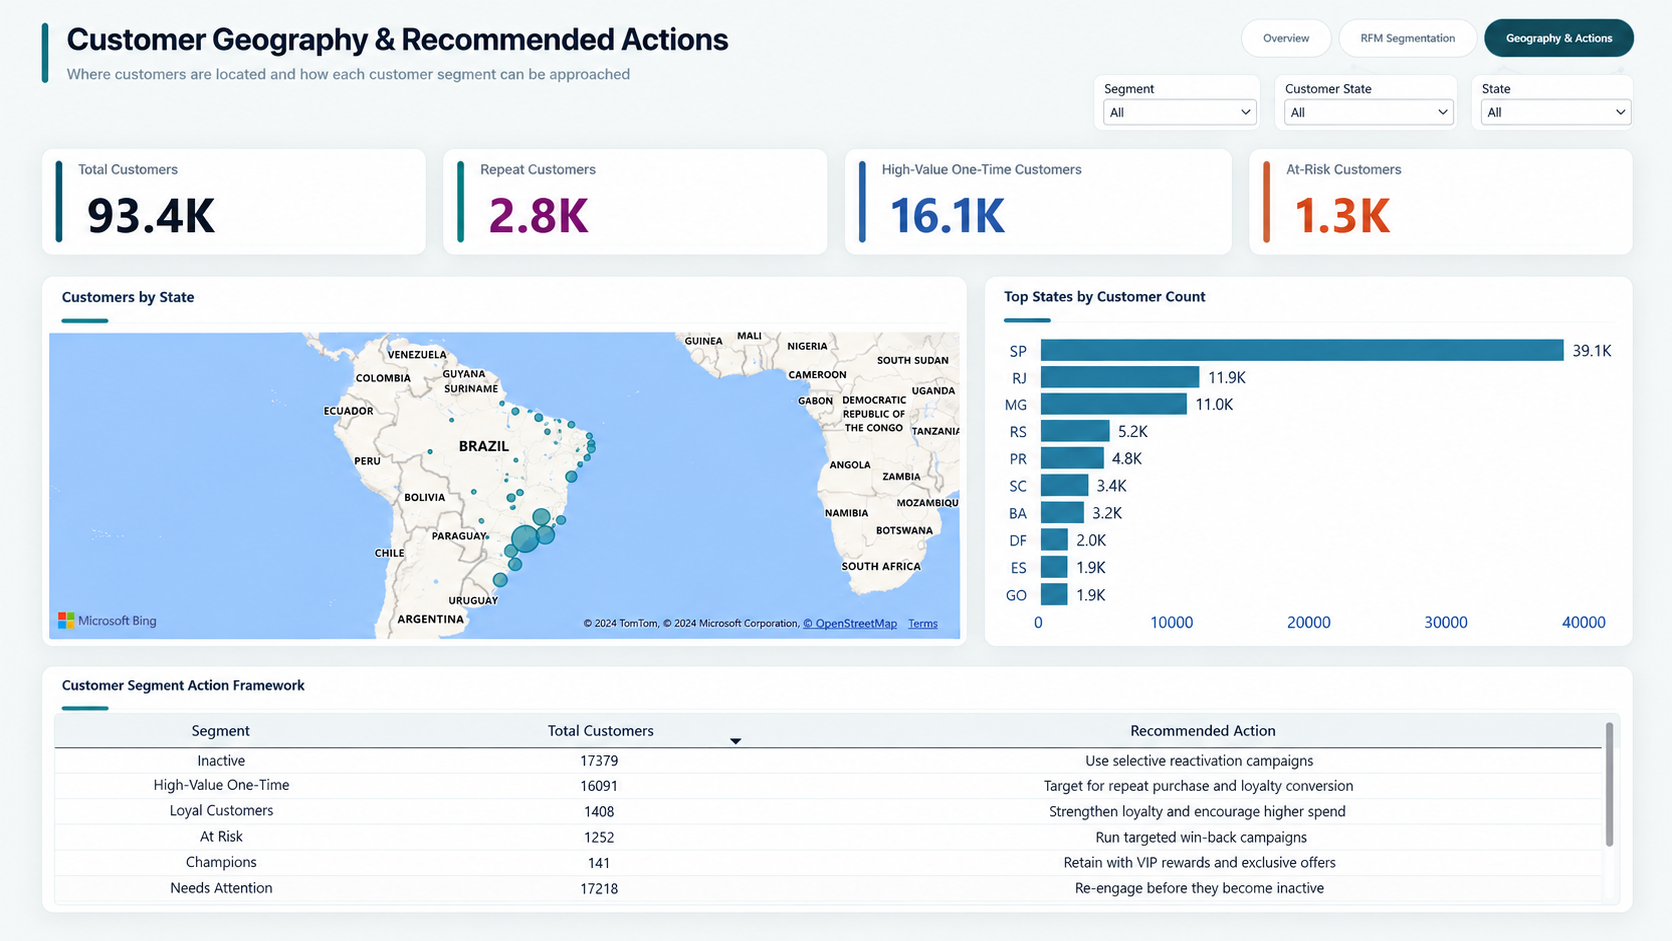

The dashboard page shown, as its layout file describes it:
{"tool":"powerbi","page":{"name":"Page 3","canvas":[1920,1080],"ordinal":2},"visuals":[{"type":"cardVisual","fields":{"Data":["olist_customer_segmentation_final.Total Customers"]},"box":[77.6,219,245.6,61.9],"z":0},{"type":"cardVisual","fields":{"Data":["olist_customer_segmentation_final.Repeat Customers"]},"box":[548.6,218.6,245.6,61.9],"z":1000},{"type":"shape","box":[1286.6,110.4,194,54],"z":2000},{"type":"slicer","fields":{"Values":["olist_customer_segmentation_final.Segment"]},"box":[1288.6,128.4,192,36],"z":3000},{"type":"textbox","box":[1294,110.2,65.8,22.5],"z":4000},{"type":"shape","box":[1489.2,110.2,206,54],"z":5000},{"type":"slicer","fields":{"Values":["olist_customer_segmentation_final.customer_state"]},"box":[1490.7,128.5,200,32.5],"z":6000},{"type":"textbox","box":[1496.5,110.2,109.2,21.7],"z":7000},{"type":"shape","box":[1701.3,110.5,194,54],"z":8000},{"type":"slicer","fields":{"Values":["olist_customer_segmentation_final.customer_state"]},"box":[1703.3,128.5,192,36],"z":9000},{"type":"textbox","box":[1708.7,110.3,65.8,22.5],"z":10000},{"type":"cardVisual","fields":{"Data":["olist_customer_segmentation_final.High-Value One-Time Customers"]},"box":[1010,220,245.6,61.9],"z":11000},{"type":"cardVisual","fields":{"Data":["olist_customer_segmentation_final.At-Risk Customers"]},"box":[1470,218.9,245.6,61.9],"z":12000},{"type":"map","fields":{"Category":["olist_customer_segmentation_final.State Location"],"Size":["olist_customer_segmentation_final.Total Customers"]},"box":[37,382,1089,337],"z":13000},{"type":"clusteredBarChart","fields":{"Category":["olist_customer_segmentation_final.customer_state"],"Y":["olist_customer_segmentation_final.Total Customers"]},"box":[1125.8,373.3,769.2,345],"z":14000},{"type":"tableEx","fields":{"Values":["olist_customer_segmentation_final.Segment","olist_customer_segmentation_final.Total Customers","olist_customer_segmentation_final.Recommended_Action"]},"box":[54,784,1810,232],"z":15000}]}

Visuals, with their boxes in screenshot pixels (x1, y1, x2, y2), scaled from the page's 1920x1080 canvas onto the 1672x941 screenshot:
cardVisual - olist_customer_segmentation_final.Total Customers: (68, 191, 281, 245)
cardVisual - olist_customer_segmentation_final.Repeat Customers: (478, 190, 692, 244)
shape: (1120, 96, 1289, 143)
slicer - olist_customer_segmentation_final.Segment: (1122, 112, 1289, 143)
textbox: (1127, 96, 1184, 116)
shape: (1297, 96, 1476, 143)
slicer - olist_customer_segmentation_final.customer_state: (1298, 112, 1472, 140)
textbox: (1303, 96, 1398, 115)
shape: (1482, 96, 1650, 143)
slicer - olist_customer_segmentation_final.customer_state: (1483, 112, 1650, 143)
textbox: (1488, 96, 1545, 116)
cardVisual - olist_customer_segmentation_final.High-Value One-Time Customers: (880, 192, 1093, 246)
cardVisual - olist_customer_segmentation_final.At-Risk Customers: (1280, 191, 1494, 245)
map - olist_customer_segmentation_final.State Location x olist_customer_segmentation_final.Total Customers: (32, 333, 981, 626)
clusteredBarChart - olist_customer_segmentation_final.customer_state x olist_customer_segmentation_final.Total Customers: (980, 325, 1650, 626)
tableEx - olist_customer_segmentation_final.Segment x olist_customer_segmentation_final.Total Customers: (47, 683, 1623, 885)
